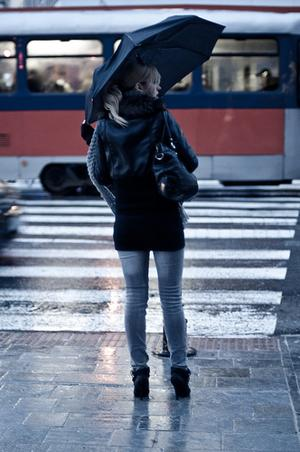person: (98, 61, 200, 403)
